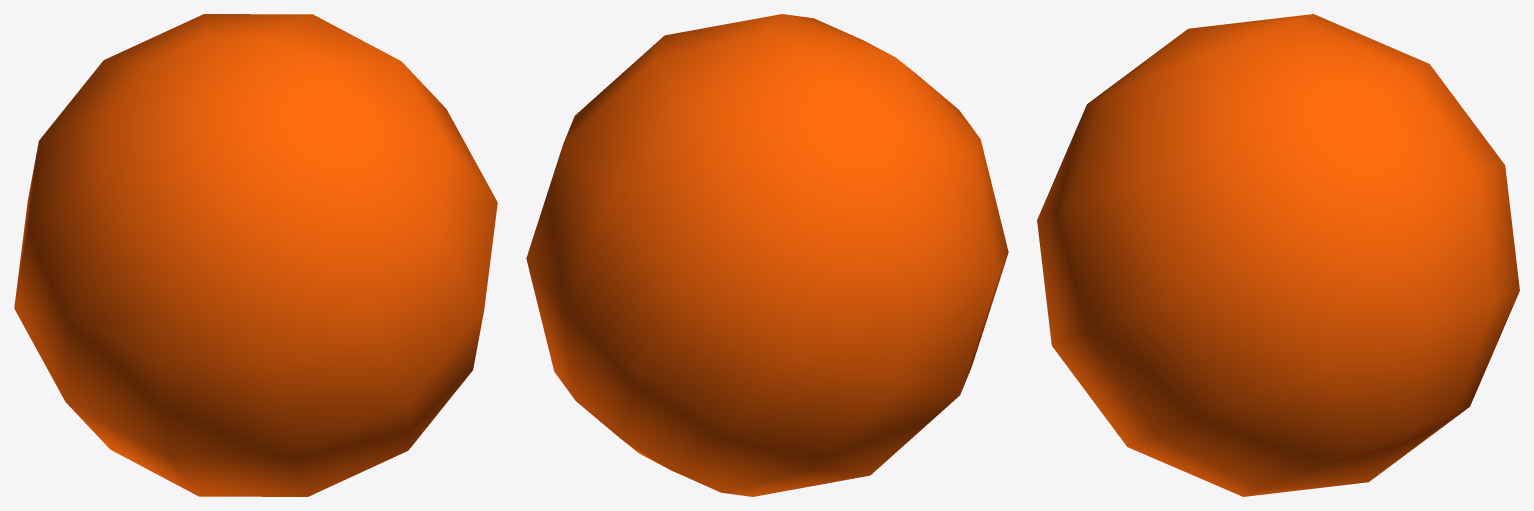
Rendered from ChristmasTree_Dif7_Sc1.fbx.
The picture shows the model from 3 angles, left to right: view 1: azimuth 30°, elevation 25°; view 2: azimuth 150°, elevation 25°; view 3: azimuth 270°, elevation 25°; orthographic projection.
Parts seen in each view (by area): view 1: ChristmasTree_Dif7_Sc1; view 2: ChristmasTree_Dif7_Sc1; view 3: ChristmasTree_Dif7_Sc1.
Part boxes in pixels (x1,y1,x2,y2): ChristmasTree_Dif7_Sc1: (14,14,497,496); ChristmasTree_Dif7_Sc1: (526,14,1008,496); ChristmasTree_Dif7_Sc1: (1037,14,1519,496).
Bounding box in the file's own units: 0.4813 × 0.487 × 0.4907.
